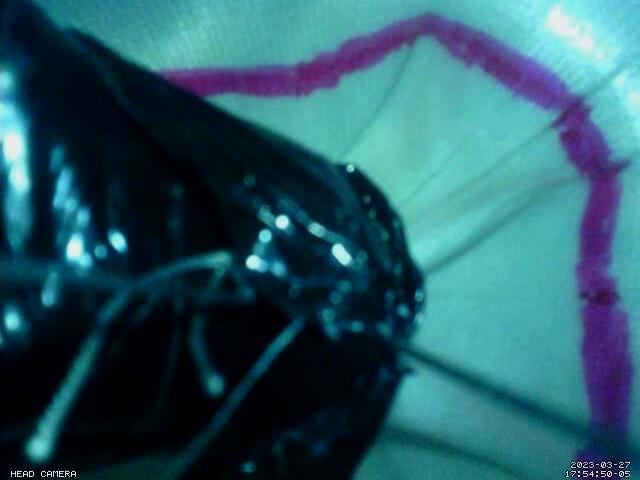red-circle: (160, 10, 640, 480)
